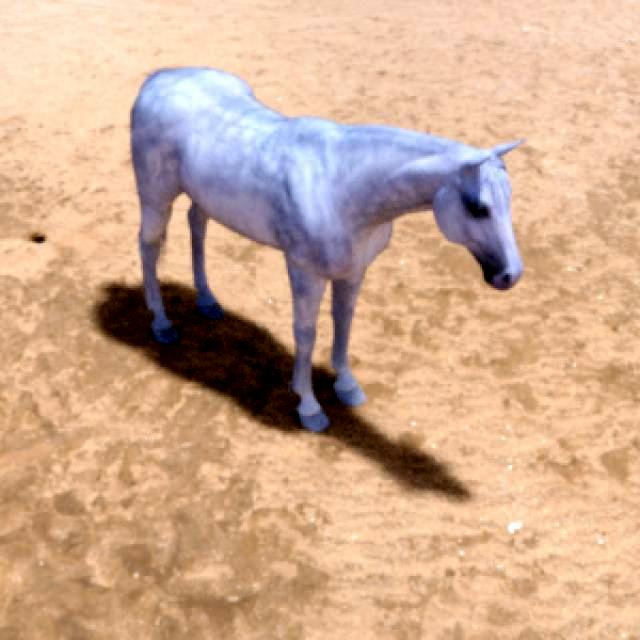horse: (131, 68, 521, 431)
